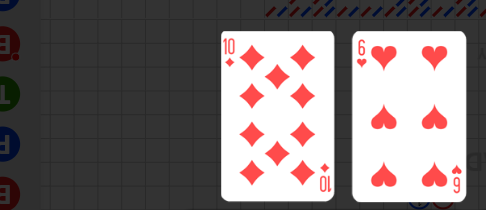10D: (223, 37, 237, 69)
6H: (450, 163, 463, 195)
